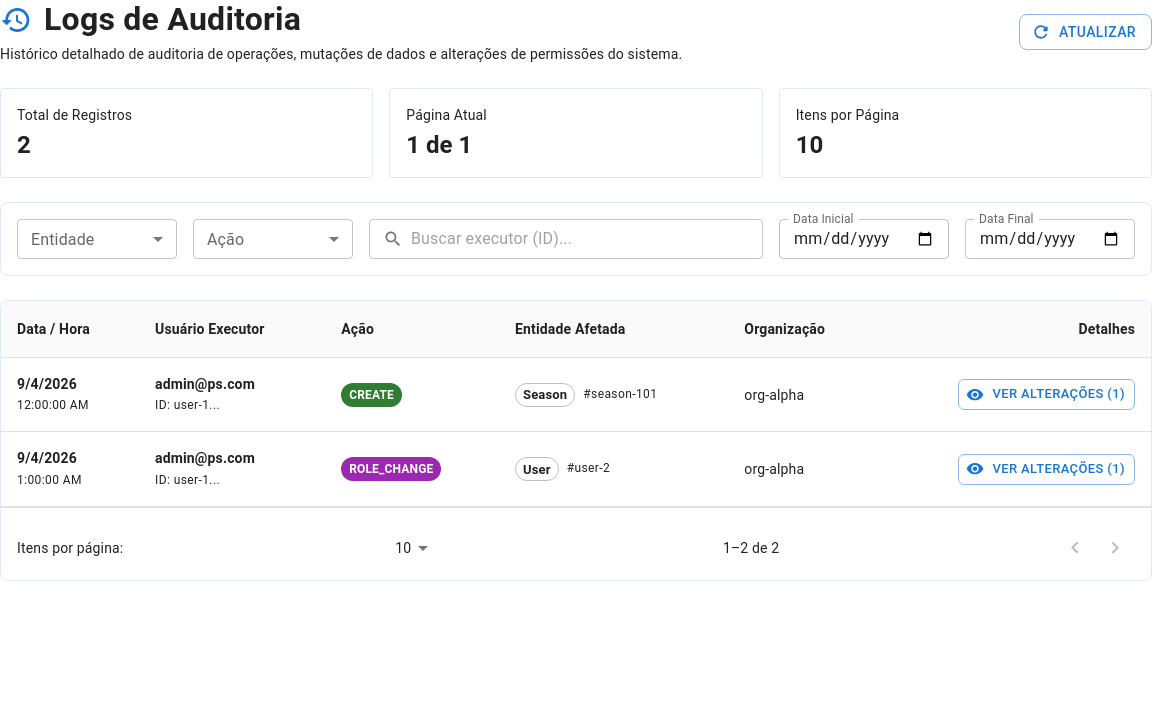
Test: AdminLogsPage › opens details modal when clicking on Ver Alterações and displays diff
Click the button "Ver Alterações (1)" in the row of "12:00:00 AM" at (1047, 394), box [958,379,1135,410]
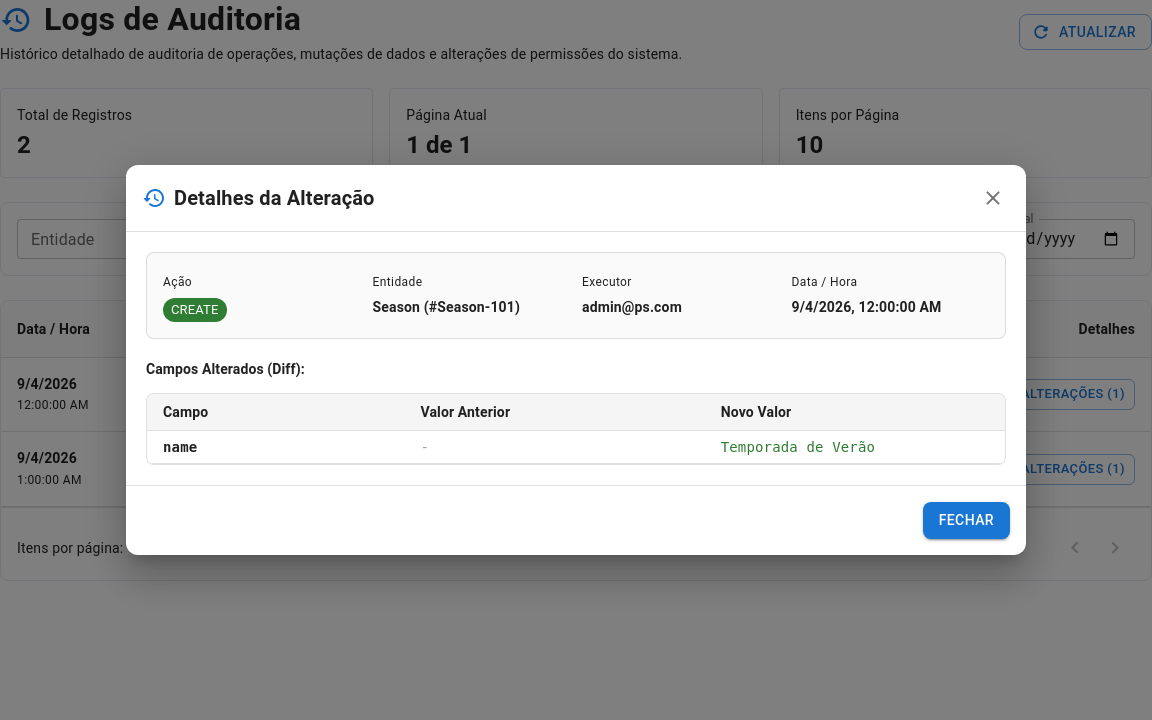
Result: the heading "Detalhes da Alteração" is shown at [174,182,375,214]
Result: the text "Temporada de Verão" is shown at [705,431,1005,464]
Note: Close modal
Click the button "Fechar" at (966, 520), box [923,502,1010,539]
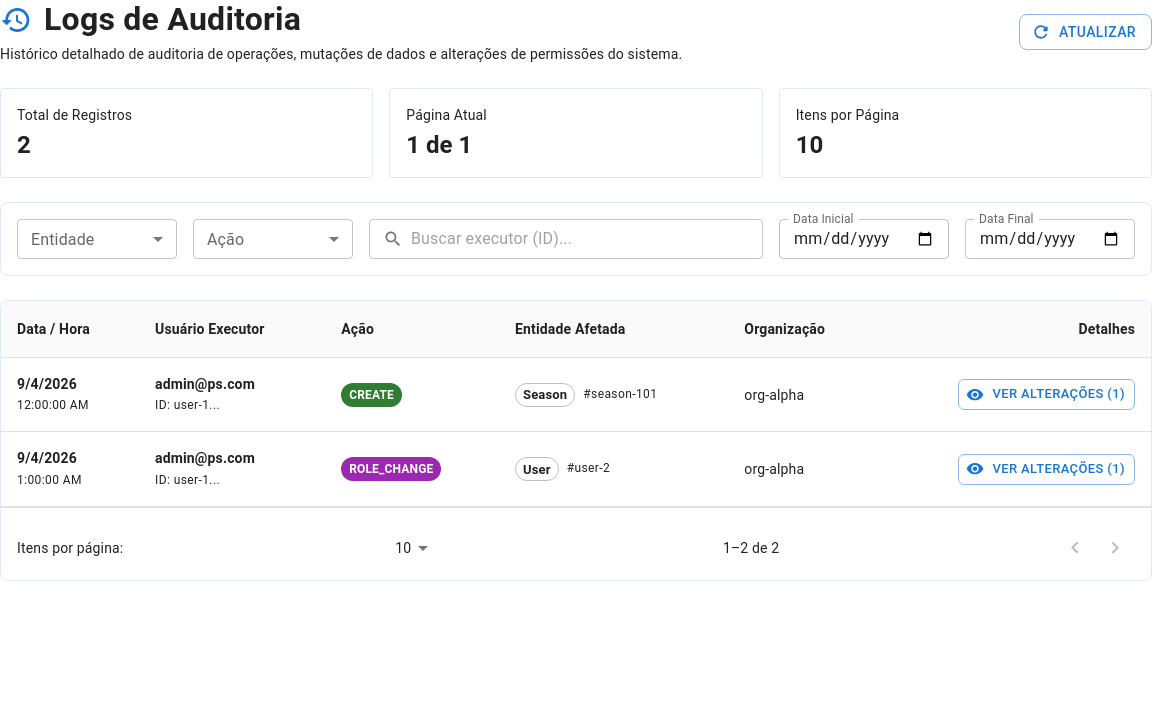
Result: the heading "Detalhes da Alteração" is gone
